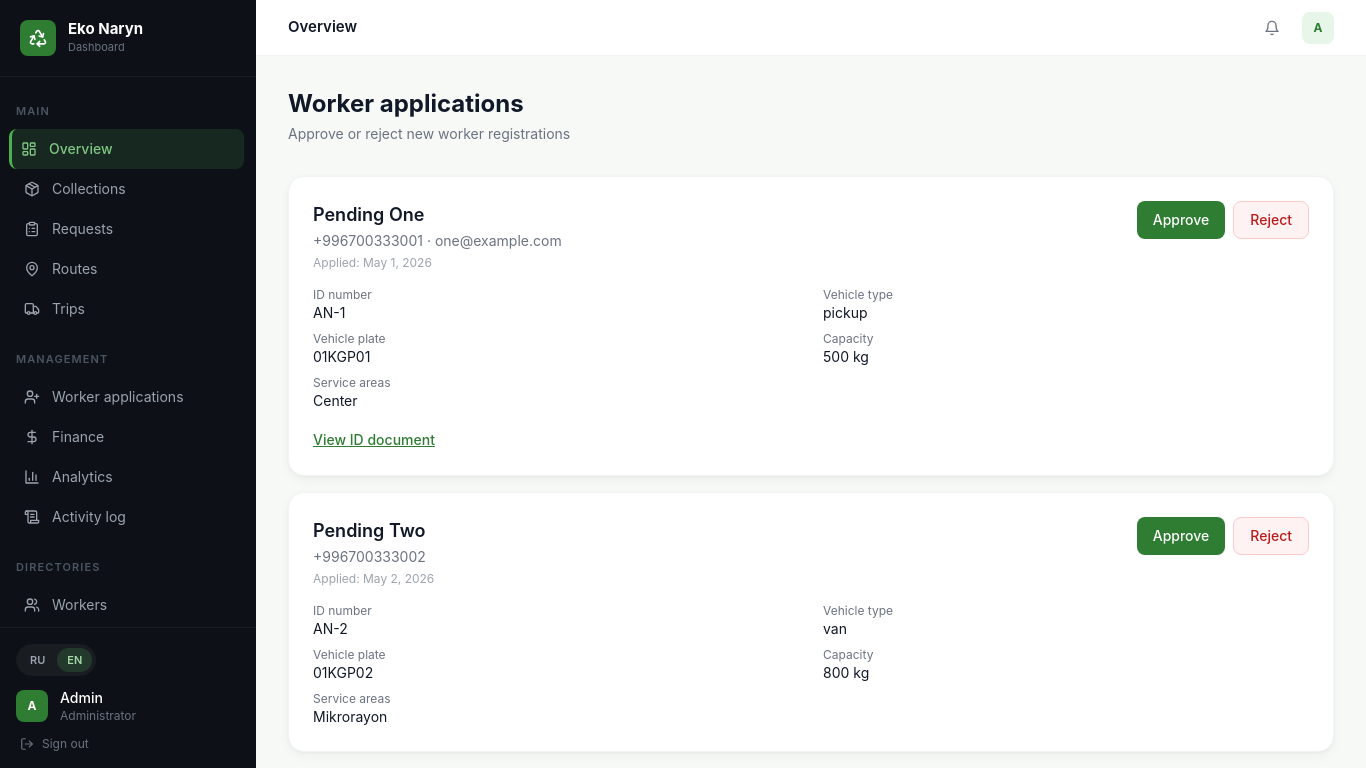
Test: PendingWorkersPage › approve hits POST /users/:id/approve and refetches
Check: the heading "Pending One" is shown, box x1=313 y1=204 x2=424 y2=225
# Approve the first card.
Click the button "Approve" in the row of "· one@example.com".
click(1181, 220)  # box x1=1137 y1=201 x2=1225 y2=239
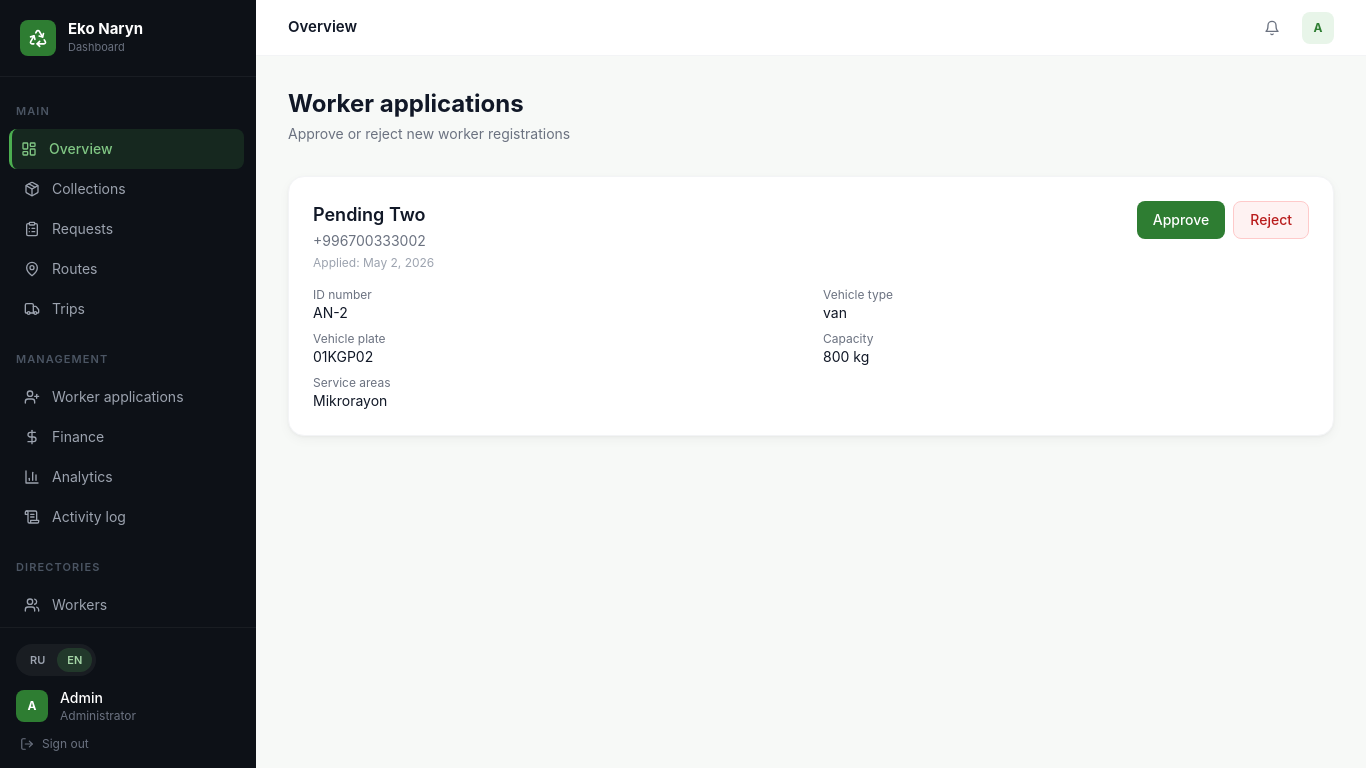
Check: the heading "Pending Two" is shown, box x1=313 y1=201 x2=434 y2=229
Check: the heading "Pending One" is gone
